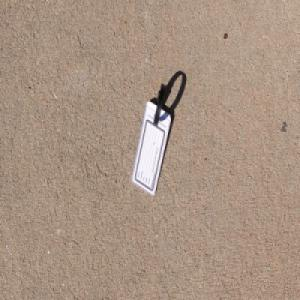LuggageTag: (130, 82, 171, 199)
